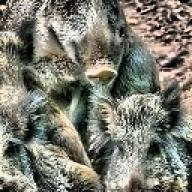boar: (88, 79, 191, 192), (0, 90, 110, 192)
